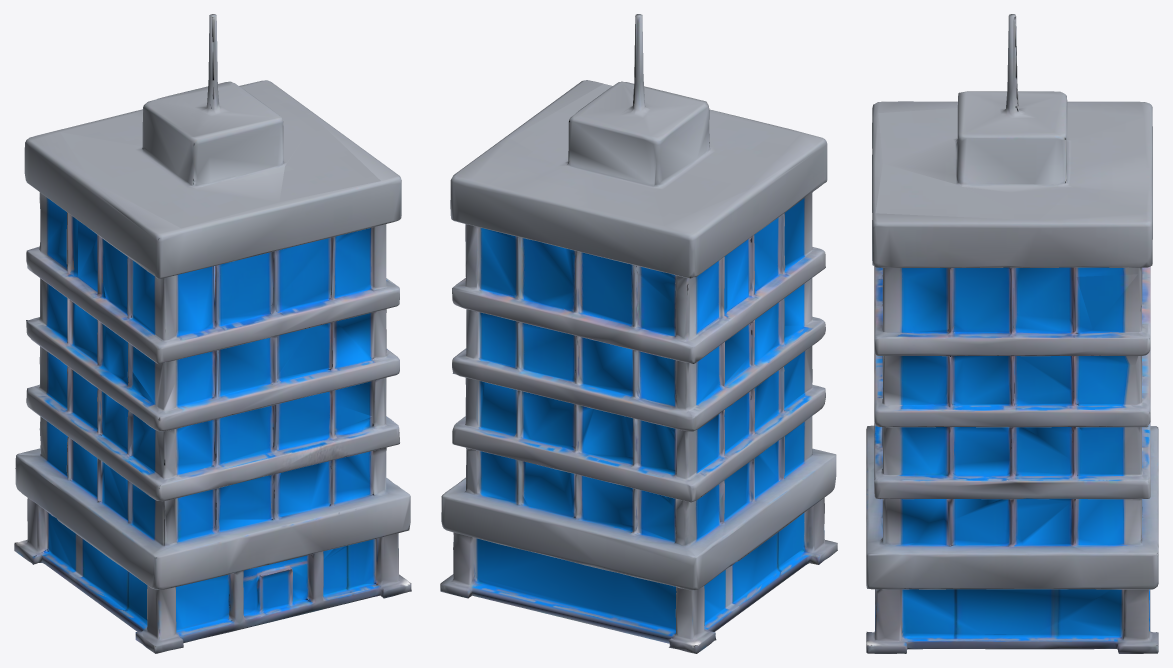
File: env_building_3.glb
3 views of the same model, side by side, from view 1: azimuth 30°, elevation 25°; view 2: azimuth 150°, elevation 25°; view 3: azimuth 270°, elevation 25° (orthographic). The views are drawn at different scales.
Parts seen in each view (by area): view 1: model; view 2: model; view 3: model.
Boxes of the visible parts, box(x1,y1,x2,y2) form: model: box(14, 14, 411, 653); model: box(440, 14, 837, 653); model: box(866, 14, 1158, 653).
Size of the model in its own units: 0.9204 by 1.9 by 0.8778.
1 material, 1 textured.
